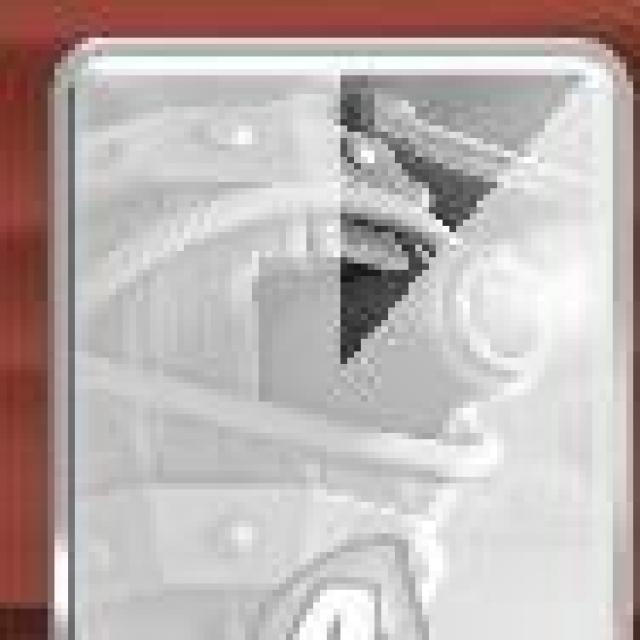Flying_Machine: (42, 29, 640, 640)
